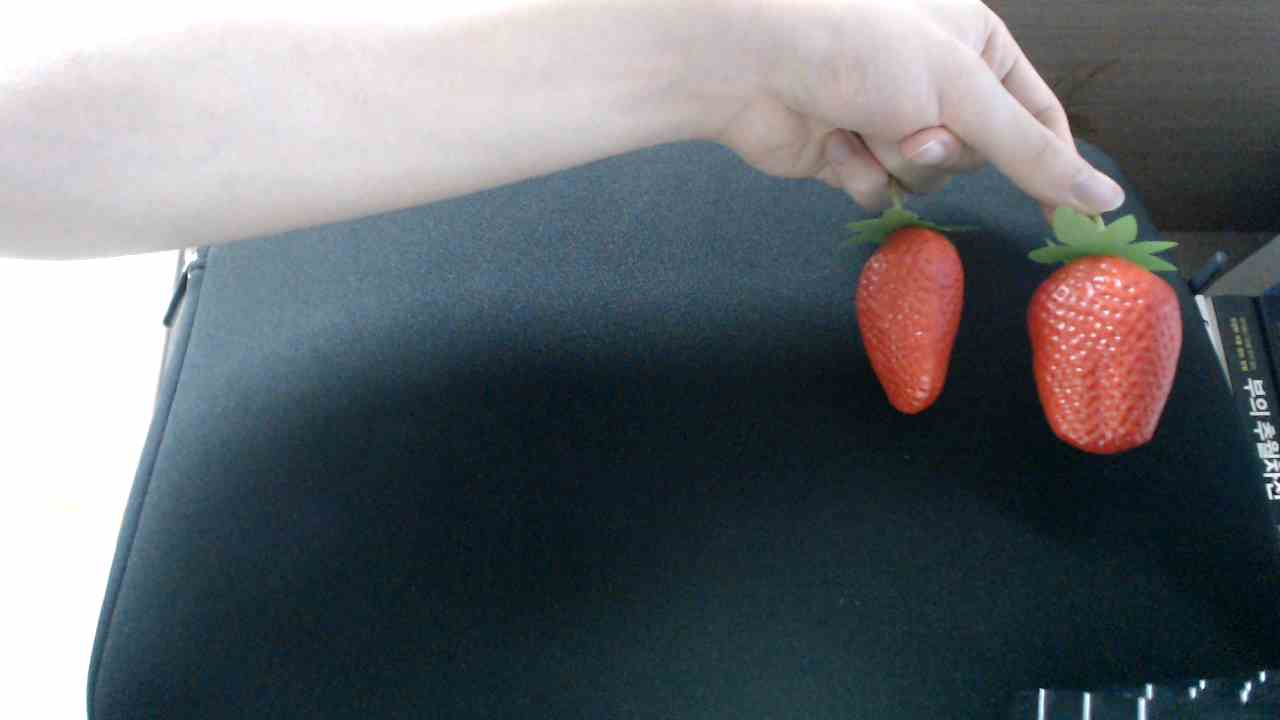strawberry: (1017, 219, 1190, 469), (836, 210, 971, 419)
